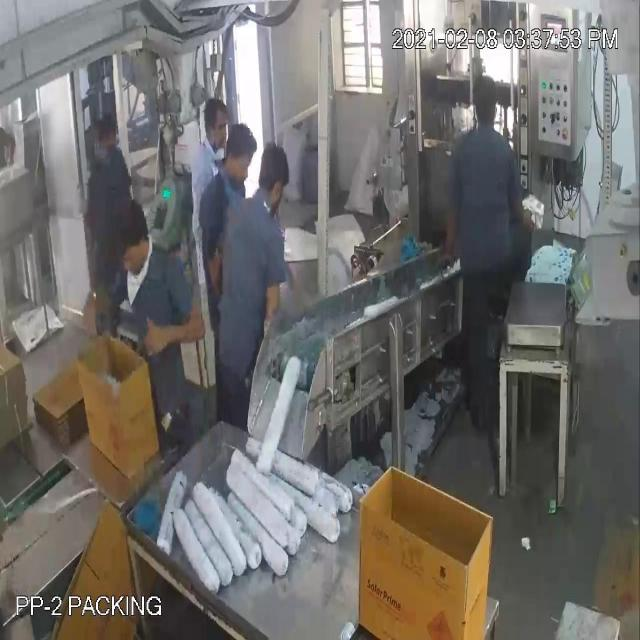No_Gloves: (53, 58, 174, 332)
